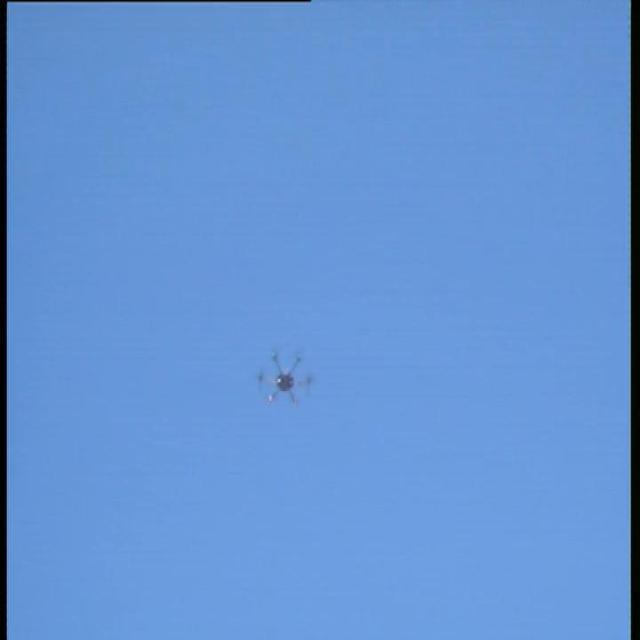drone: (250, 340, 321, 417)
